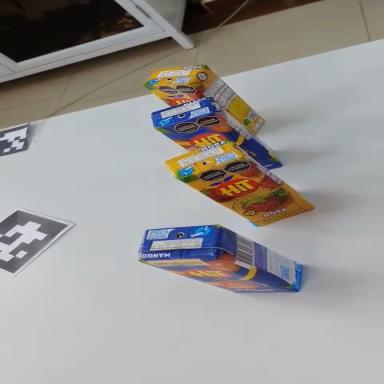HIT-MANGO: (135, 214, 308, 303), (146, 83, 295, 178)
HIT-MORA: (161, 118, 320, 250), (142, 47, 275, 143)
cara_F: (178, 132, 315, 256), (139, 232, 298, 321), (152, 98, 292, 177), (144, 82, 204, 108)
